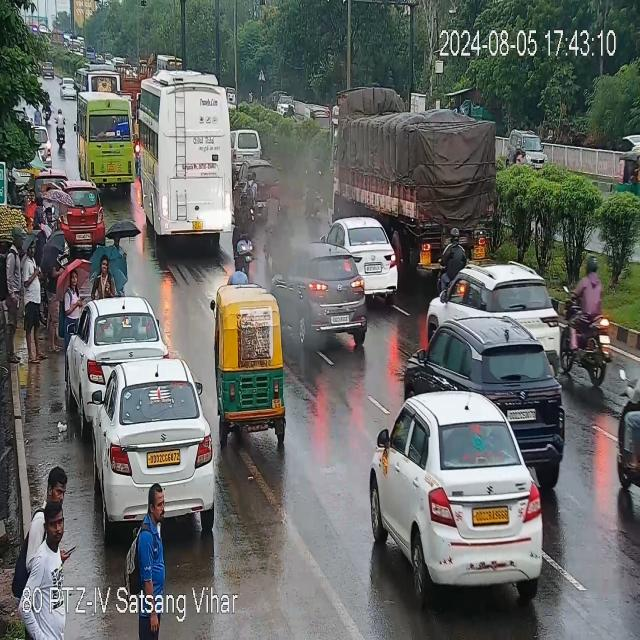2-wheelers: (562, 255, 610, 389), (430, 216, 466, 280), (235, 185, 253, 271), (56, 105, 66, 150), (515, 148, 526, 163)
auto: (211, 285, 286, 440), (615, 150, 640, 194)
bus: (132, 60, 235, 252), (76, 90, 140, 192), (77, 60, 120, 93)
car: (369, 387, 545, 592), (410, 316, 564, 472), (82, 363, 212, 529), (440, 263, 575, 350), (72, 296, 166, 396), (290, 244, 364, 350), (328, 218, 401, 294), (609, 363, 640, 506), (60, 183, 104, 245), (512, 124, 545, 169), (233, 128, 261, 173), (58, 80, 80, 102)
pedestrian: (33, 465, 87, 566), (134, 470, 168, 581), (20, 239, 42, 352), (4, 232, 22, 356), (68, 257, 113, 299), (45, 245, 57, 348), (38, 203, 61, 245), (112, 228, 126, 262)
truck: (337, 101, 505, 248)
